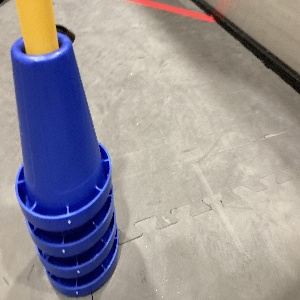Blue_4: (5, 21, 123, 299)
